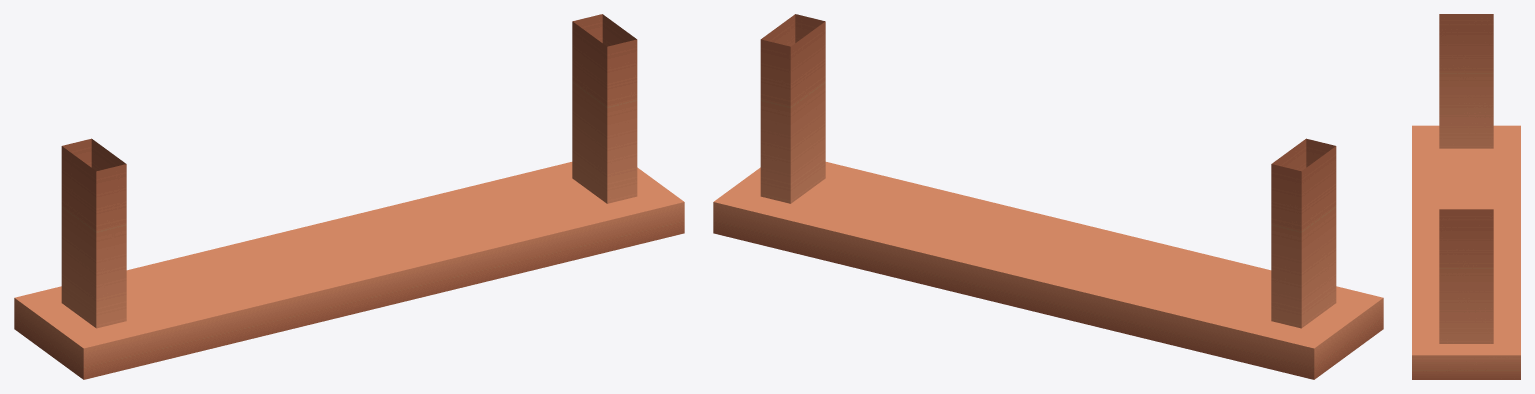
File: coaster-kit--coaster-wood-segment.glb
3 renders of one model, left to right at view 1: azimuth 30°, elevation 25°; view 2: azimuth 150°, elevation 25°; view 3: azimuth 270°, elevation 25°, orthographic. The views are drawn at different scales.
Parts seen in each view (by area): view 1: coaster-wood-segment; view 2: coaster-wood-segment; view 3: coaster-wood-segment.
Part boxes in pixels (x1,y1,x2,y2): coaster-wood-segment: (14,14,684,379); coaster-wood-segment: (713,14,1383,379); coaster-wood-segment: (1412,14,1520,379).
Size of the model in its own units: 1 by 0.3 by 0.2.
Materials: 1 (1 with a texture image).
